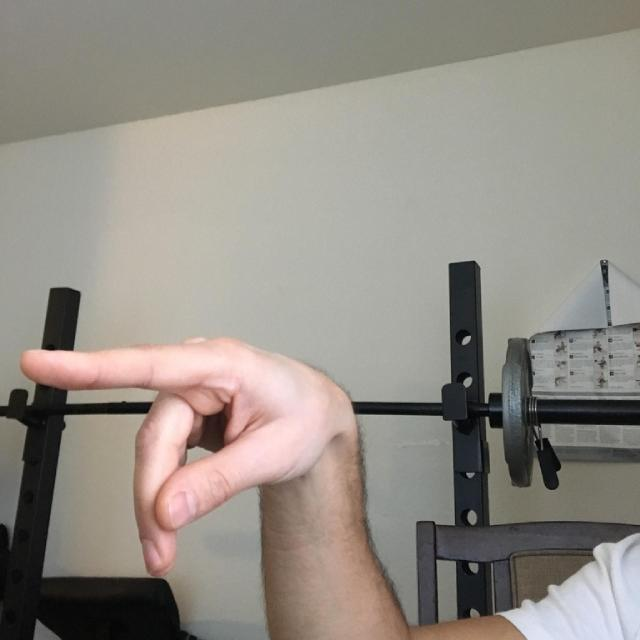P: (21, 277, 423, 590)
